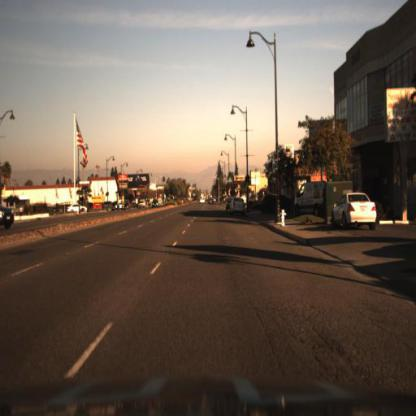car: (291, 183, 346, 216), (330, 194, 377, 230), (230, 197, 249, 216), (66, 203, 91, 216), (2, 209, 15, 229), (107, 199, 123, 215), (69, 203, 85, 216)
truck: (292, 178, 329, 220)
